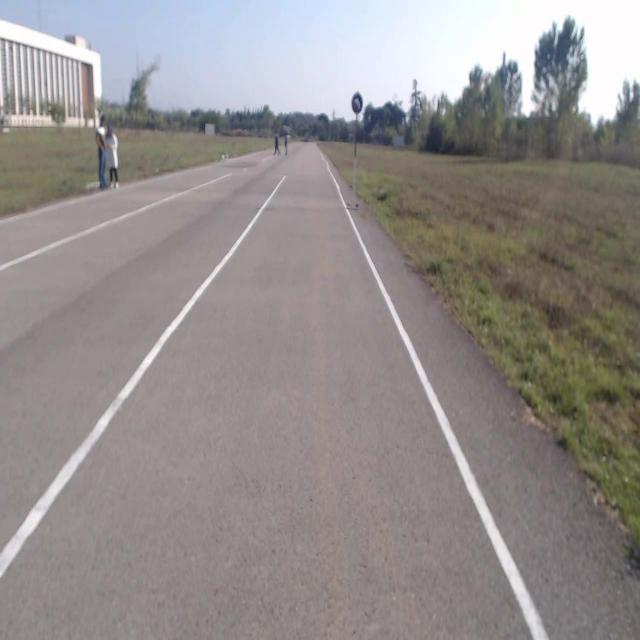sol: (352, 92, 363, 112)
